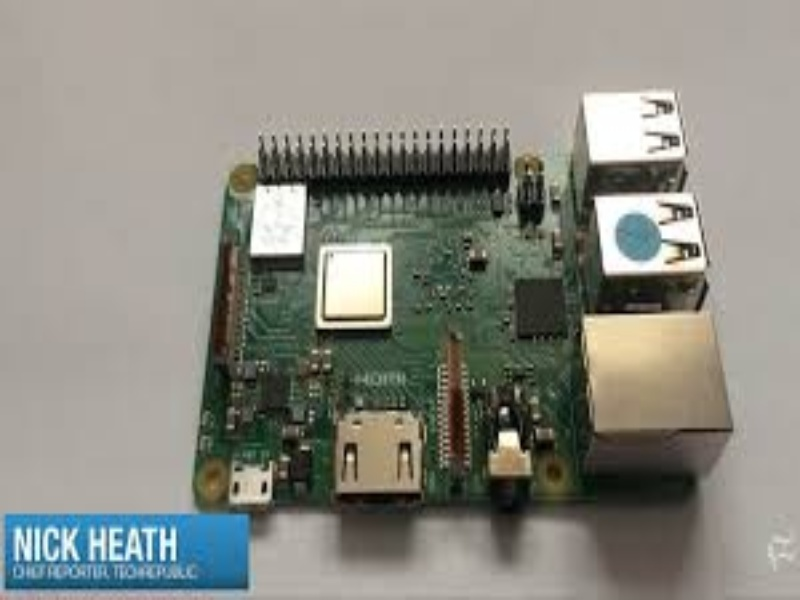raspberrypi: (198, 79, 735, 529)
